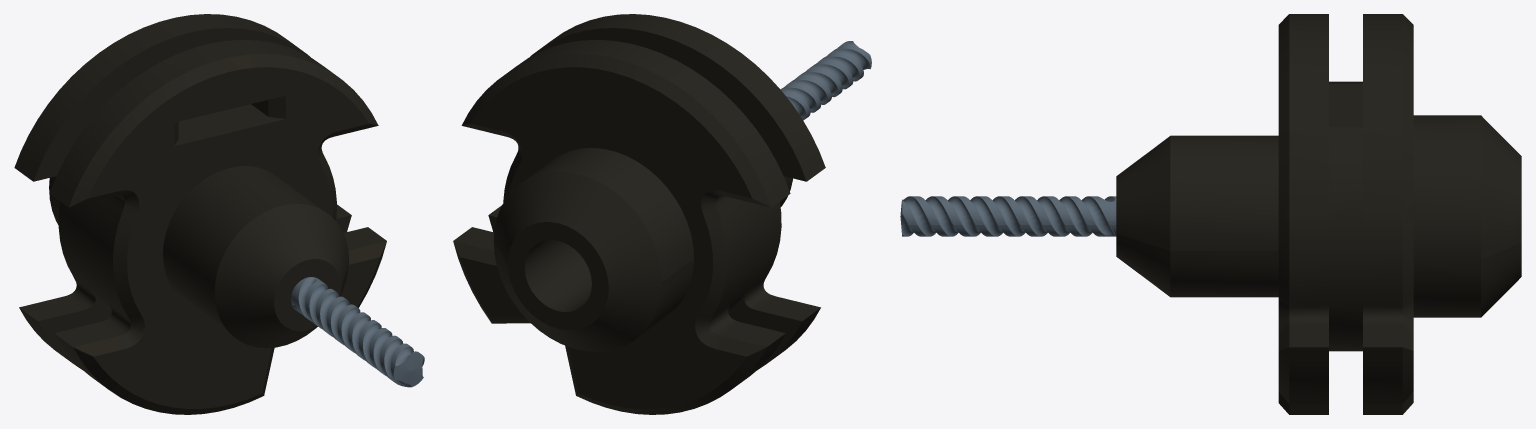
The model's file is DRILL 0.5MM (1).fbx.
The picture shows the model from 3 angles, left to right: view 1: azimuth 30°, elevation 25°; view 2: azimuth 150°, elevation 25°; view 3: azimuth 270°, elevation 25°; orthographic projection. The views are drawn at different scales.
Parts seen in each view (by area): view 1: empty_2, empty_3; view 2: empty_2, empty_3; view 3: empty_2, empty_3.
Boxes of the visible parts, bbox=[...] form: empty_2: bbox=[14, 14, 386, 414]; empty_3: bbox=[291, 277, 424, 387]; empty_2: bbox=[453, 14, 825, 414]; empty_3: bbox=[780, 41, 871, 120]; empty_2: bbox=[1116, 14, 1521, 414]; empty_3: bbox=[900, 196, 1116, 236].
Bounding box in the file's own units: 28.42 × 29.98 × 46.
